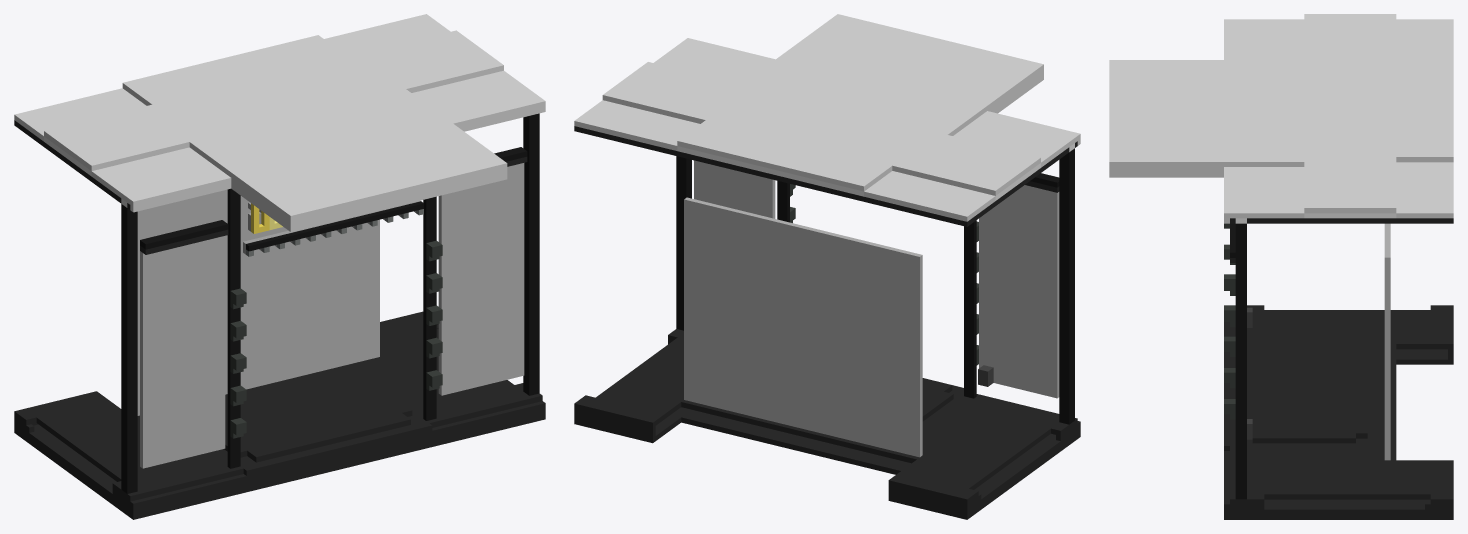
File: outsidelands.obj
3 renders of one model, left to right at view 1: azimuth 30°, elevation 25°; view 2: azimuth 150°, elevation 25°; view 3: azimuth 270°, elevation 25°, orthographic. The views are drawn at different scales.
Size of the model in its own units: 80 by 60 by 60.
Materials: 1 (1 with a texture image).
